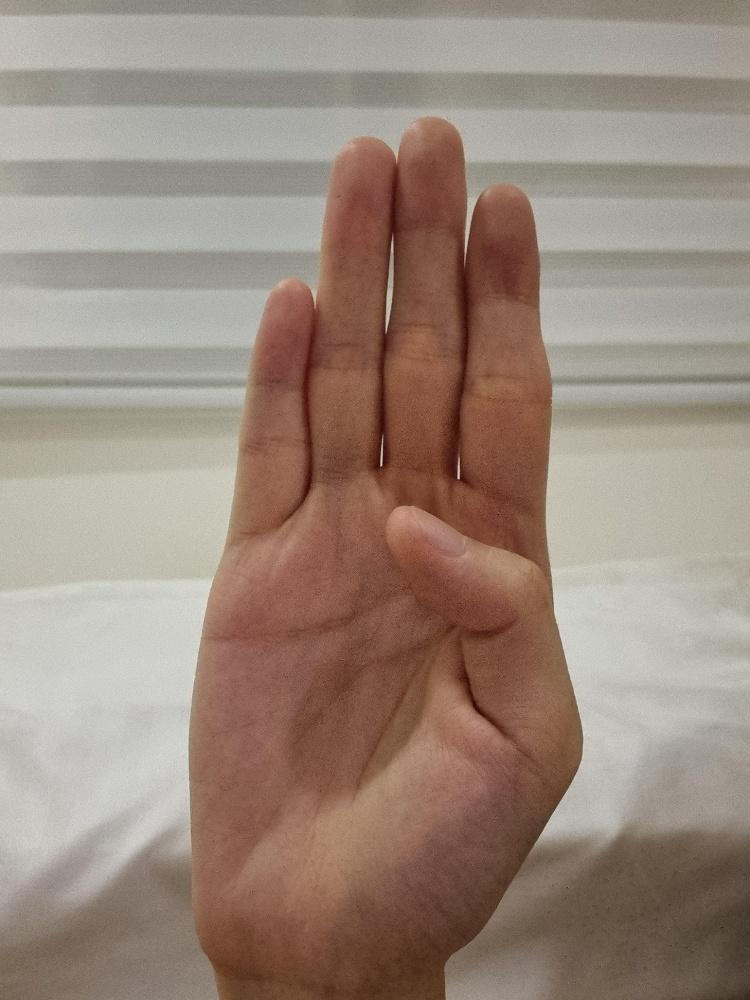b: (186, 116, 583, 977)
